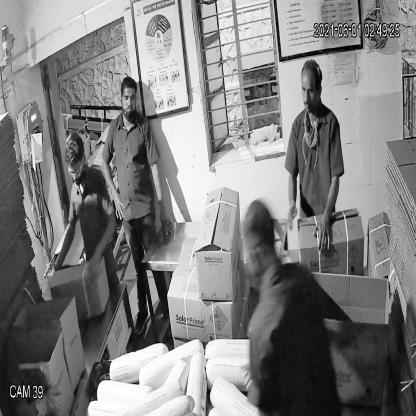goggles: (65, 160, 86, 182)
no_goggles: (298, 82, 326, 101), (116, 88, 142, 108)
